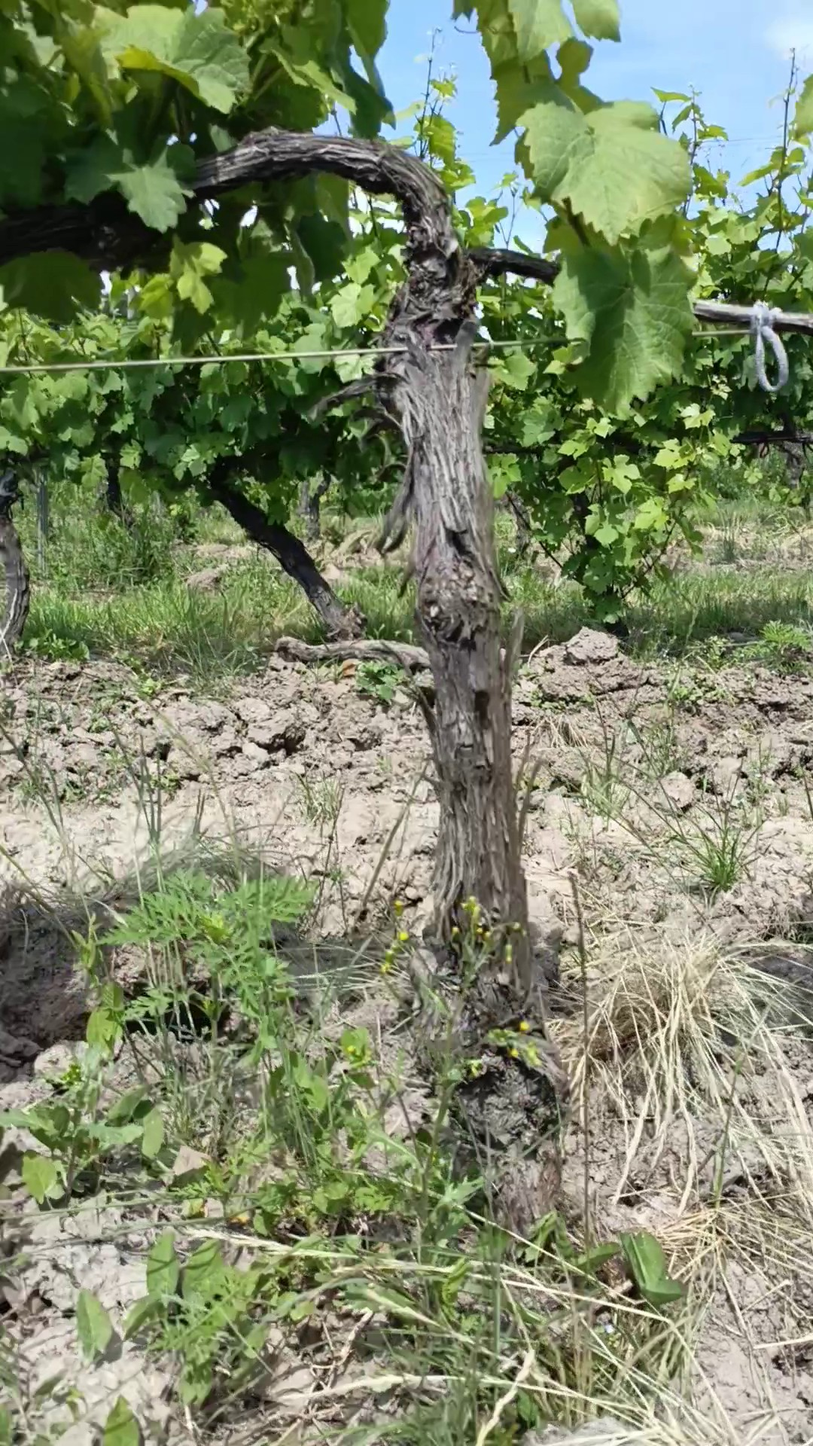vine_trunk: (245, 130, 567, 1223)
